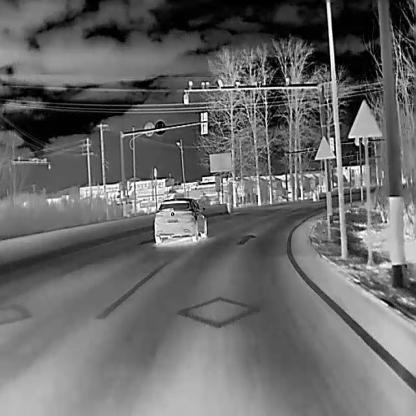car: (153, 197, 207, 242)
